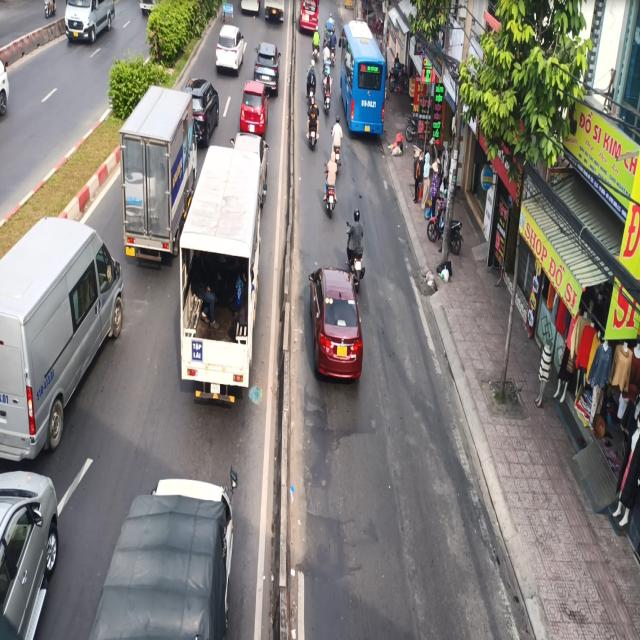car: (0, 203, 129, 457), (306, 270, 362, 398), (252, 39, 280, 89)
motor: (345, 207, 376, 283), (322, 153, 343, 231)
